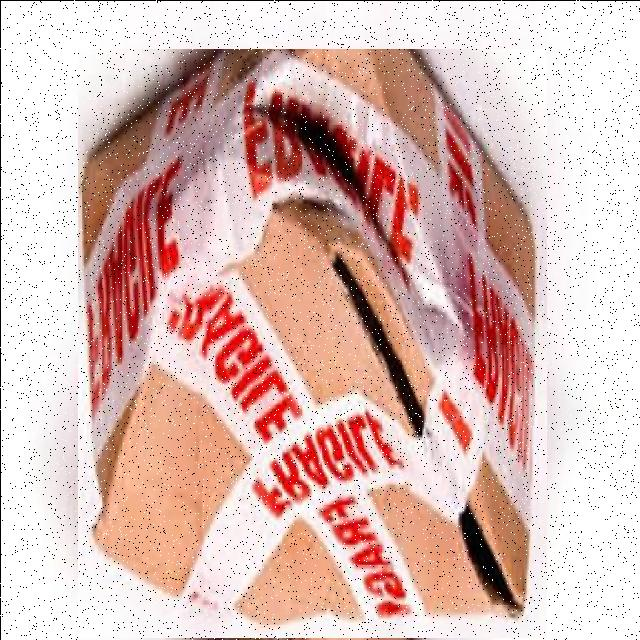defect: (77, 48, 546, 637)
